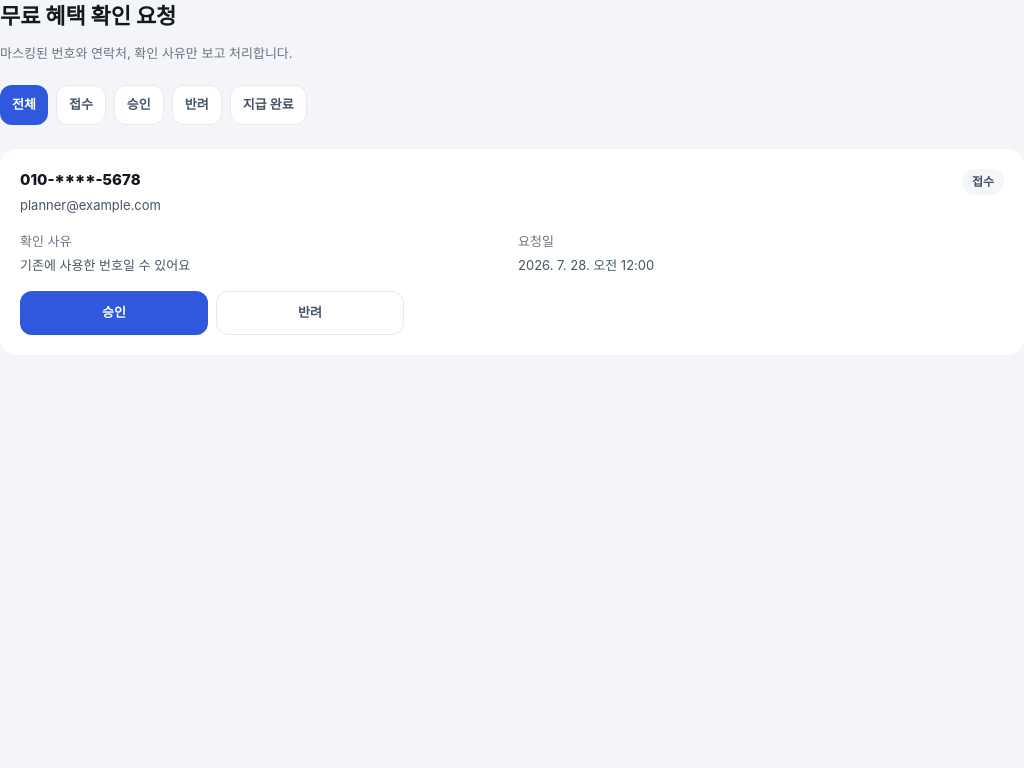
Test: 관리자 무료 혜택 확인 요청 › 다른 관리자가 먼저 처리한 충돌은 최신 목록을 읽고 안내한다
Click the button "반려" at [310, 313], box [216, 291, 404, 335]
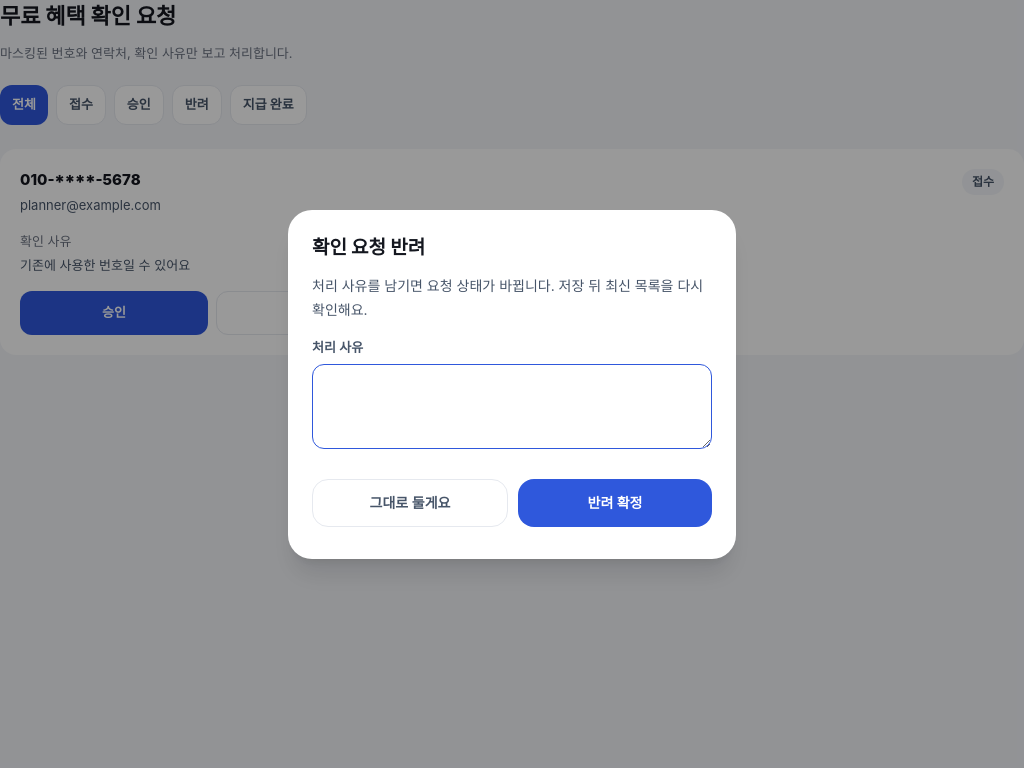
Type "이미 다른 경로에서 처리했어요" into the text box labelled "처리 사유" at [512, 406], box [312, 364, 712, 448]
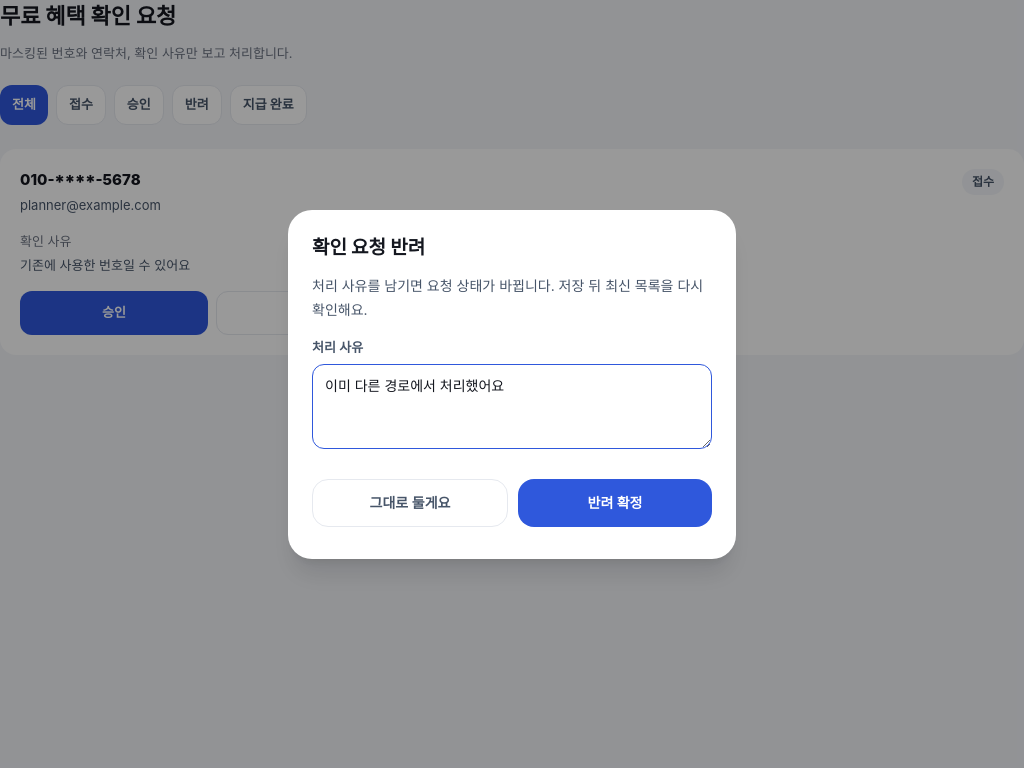
Click the button "반려 확정" at [615, 502], box [518, 478, 712, 526]
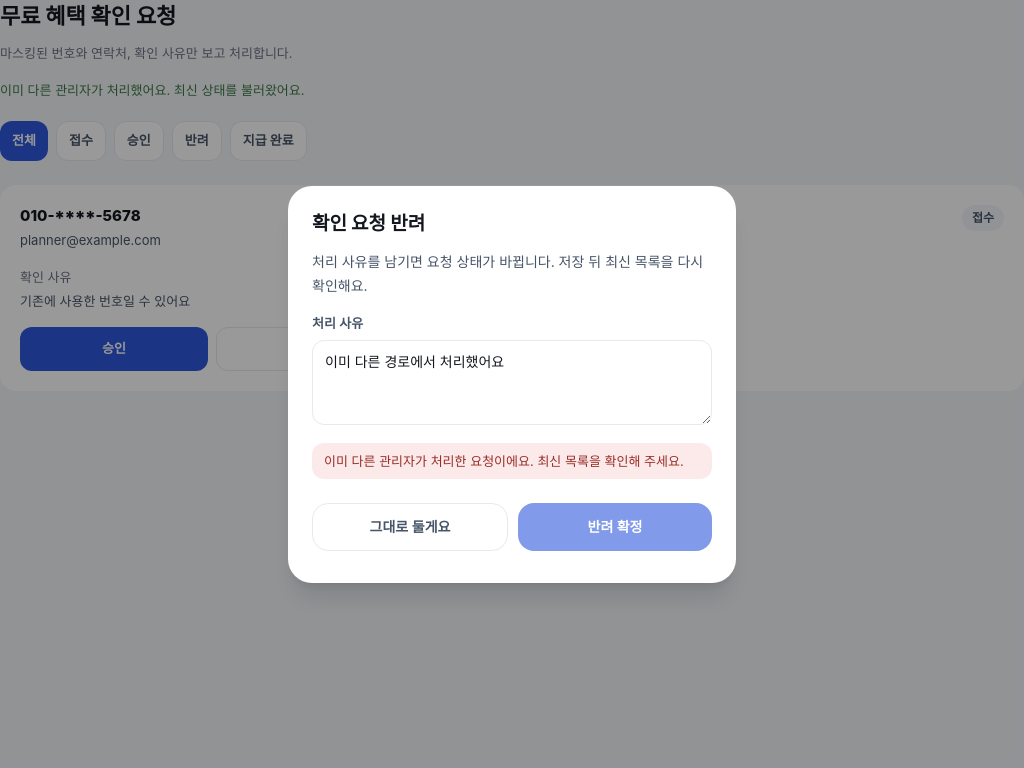
Expected: the text "이미 다른 관리자가 처리했어요. 최신 상태를 불러왔어요." is shown, [0, 82, 304, 98]
